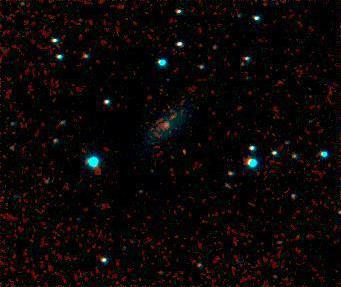star: (161, 100, 191, 130)
